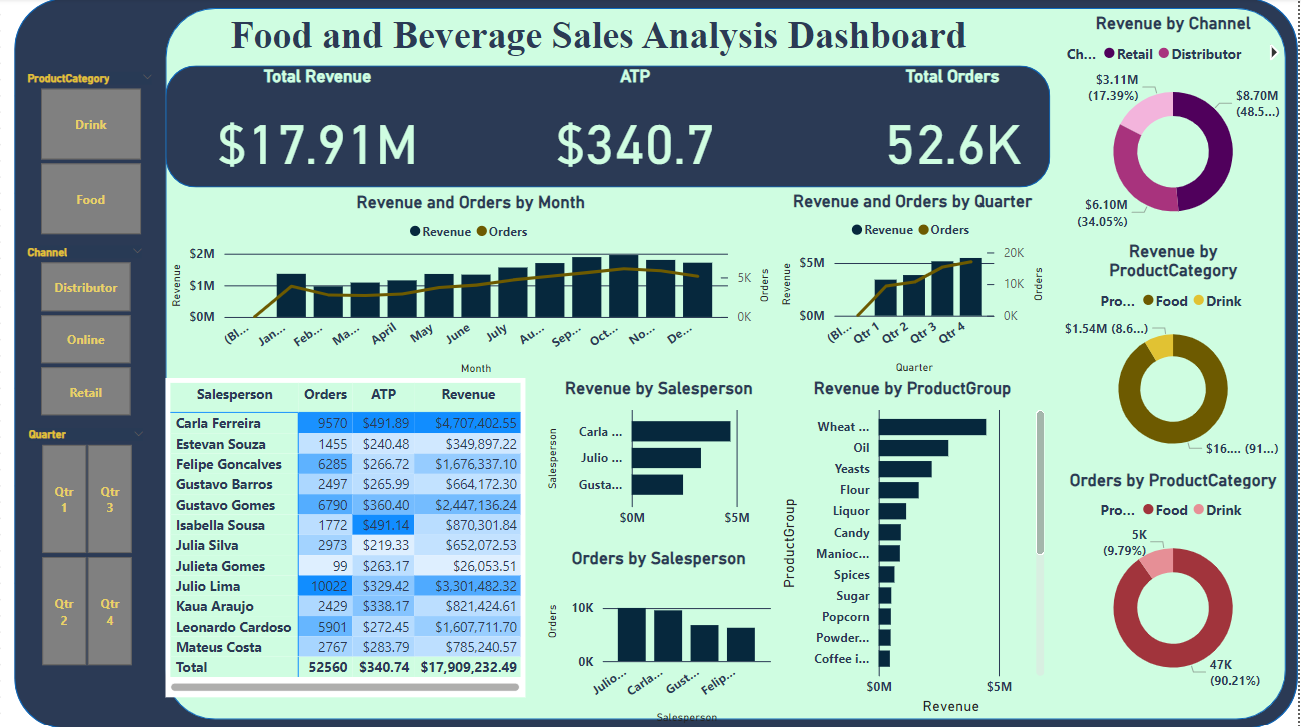

This screenshot's page, from the dashboard's own definition file:
{"tool":"powerbi","page":{"name":"Page 2","canvas":[1280,720],"ordinal":1},"visuals":[{"type":"shape","box":[16,0,1263.8,720.2],"z":0},{"type":"shape","box":[164.4,9.8,1103.1,700.6],"z":1000},{"type":"shape","box":[164.4,66.3,871.2,120.2],"z":2000},{"type":"card","title":"Total Revenue ","fields":{"Values":["Product.Revenue"]},"box":[164.4,66.3,299.4,122.7],"z":3000},{"type":"card","title":"ATP","fields":{"Values":["Product.ATP"]},"box":[477.3,66.3,299.4,122.7],"z":4000},{"type":"card","title":"Total Orders","fields":{"Values":["Product.Orders"]},"box":[790.2,66.3,299.4,122.7],"z":5000},{"type":"donutChart","fields":{"Y":["Product.Revenue"],"Category":["Sheet1.Channel"]},"box":[1047.9,14.7,219.6,224.5],"z":6000},{"type":"donutChart","fields":{"Y":["Product.Revenue"],"Category":["Product.ProductCategory"]},"box":[1047.9,239.3,219.6,224.5],"z":7000},{"type":"donutChart","fields":{"Category":["Product.ProductCategory"],"Y":["Product.Orders"]},"box":[1047.9,463.8,219.6,224.5],"z":8000},{"type":"lineStackedColumnComboChart","fields":{"Y":["Product.Revenue"],"Y2":["Product.Orders"],"Category":["Sheet1.OrderDate.Variation.Date Hierarchy.Quarter"]},"box":[765.6,189,269.9,185.3],"z":9000},{"type":"barChart","fields":{"Y":["Product.Revenue"],"Category":["Product.ProductGroup"]},"box":[765.6,374.2,269.9,336.2],"z":10000},{"type":"lineStackedColumnComboChart","fields":{"Y":["Product.Revenue"],"Y2":["Product.Orders"],"Category":["Sheet1.OrderDate.Variation.Date Hierarchy.Month"]},"box":[164.4,190.2,601.2,185.3],"z":11000},{"type":"barChart","fields":{"Y":["Product.Revenue"],"Category":["Sheet1.Salesperson"]},"box":[535,374.2,230.7,155.8],"z":12000},{"type":"clusteredColumnChart","fields":{"Y":["Product.Orders"],"Category":["Sheet1.Salesperson"]},"box":[535.2,542,230.5,178.4],"z":13000},{"type":"pivotTable","fields":{"Rows":["Sheet1.Salesperson"],"Values":["Product.Orders","Product.ATP","Product.Revenue"]},"box":[164.4,374.2,354.6,314.1],"z":14000},{"type":"slicer","fields":{"Values":["Product.ProductCategory"]},"box":[16,67.5,148.5,171.8],"z":16000},{"type":"slicer","fields":{"Values":["Sheet1.Channel"]},"box":[16,239.3,138.7,179.1],"z":17000},{"type":"slicer","fields":{"Values":["Sheet1.OrderDate.Variation.Date Hierarchy.Quarter"]},"box":[17.2,418.4,138.7,245.4],"z":18000},{"type":"textbox","box":[164.4,9.8,852.8,72.4],"z":19000}]}

Visuals, with their boxes in screenshot pixels (x1, y1, x2, y2), scaled from the page's 1280x720 canvas onto the 1301x727 screenshot:
shape: pyautogui.locateOnScreen(16, 0, 1300, 726)
shape: pyautogui.locateOnScreen(167, 10, 1288, 717)
shape: pyautogui.locateOnScreen(167, 67, 1053, 188)
"Total Revenue " card: pyautogui.locateOnScreen(167, 67, 471, 191)
"ATP" card: pyautogui.locateOnScreen(485, 67, 789, 191)
"Total Orders" card: pyautogui.locateOnScreen(803, 67, 1107, 191)
donutChart - Product.Revenue x Sheet1.Channel: pyautogui.locateOnScreen(1065, 15, 1288, 242)
donutChart - Product.Revenue x Product.ProductCategory: pyautogui.locateOnScreen(1065, 242, 1288, 468)
donutChart - Product.ProductCategory x Product.Orders: pyautogui.locateOnScreen(1065, 468, 1288, 695)
lineStackedColumnComboChart - Product.Revenue x Product.Orders: pyautogui.locateOnScreen(778, 191, 1052, 378)
barChart - Product.Revenue x Product.ProductGroup: pyautogui.locateOnScreen(778, 378, 1052, 717)
lineStackedColumnComboChart - Product.Revenue x Product.Orders: pyautogui.locateOnScreen(167, 192, 778, 379)
barChart - Product.Revenue x Sheet1.Salesperson: pyautogui.locateOnScreen(544, 378, 778, 535)
clusteredColumnChart - Product.Orders x Sheet1.Salesperson: pyautogui.locateOnScreen(544, 547, 778, 726)
pivotTable - Sheet1.Salesperson x Product.Orders: pyautogui.locateOnScreen(167, 378, 528, 695)
slicer - Product.ProductCategory: pyautogui.locateOnScreen(16, 68, 167, 242)
slicer - Sheet1.Channel: pyautogui.locateOnScreen(16, 242, 157, 422)
slicer - Sheet1.OrderDate.Variation.Date Hierarchy.Quarter: pyautogui.locateOnScreen(17, 422, 158, 670)
textbox: pyautogui.locateOnScreen(167, 10, 1034, 83)
